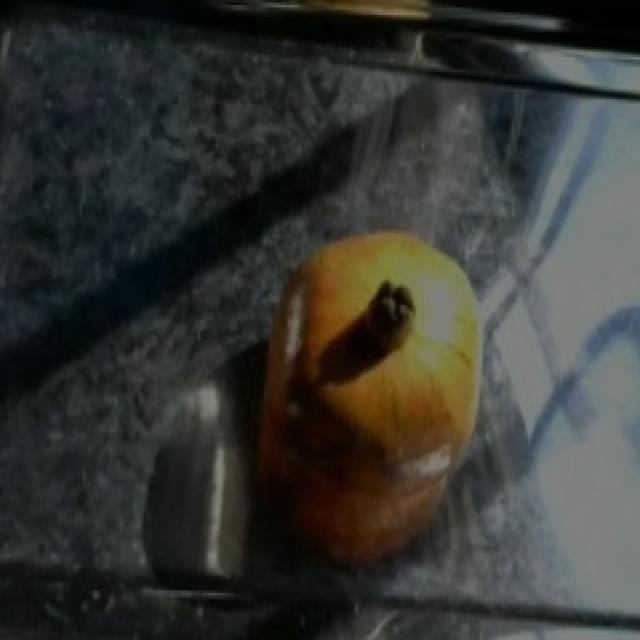fruit: (244, 317, 478, 588), (260, 208, 508, 436)
